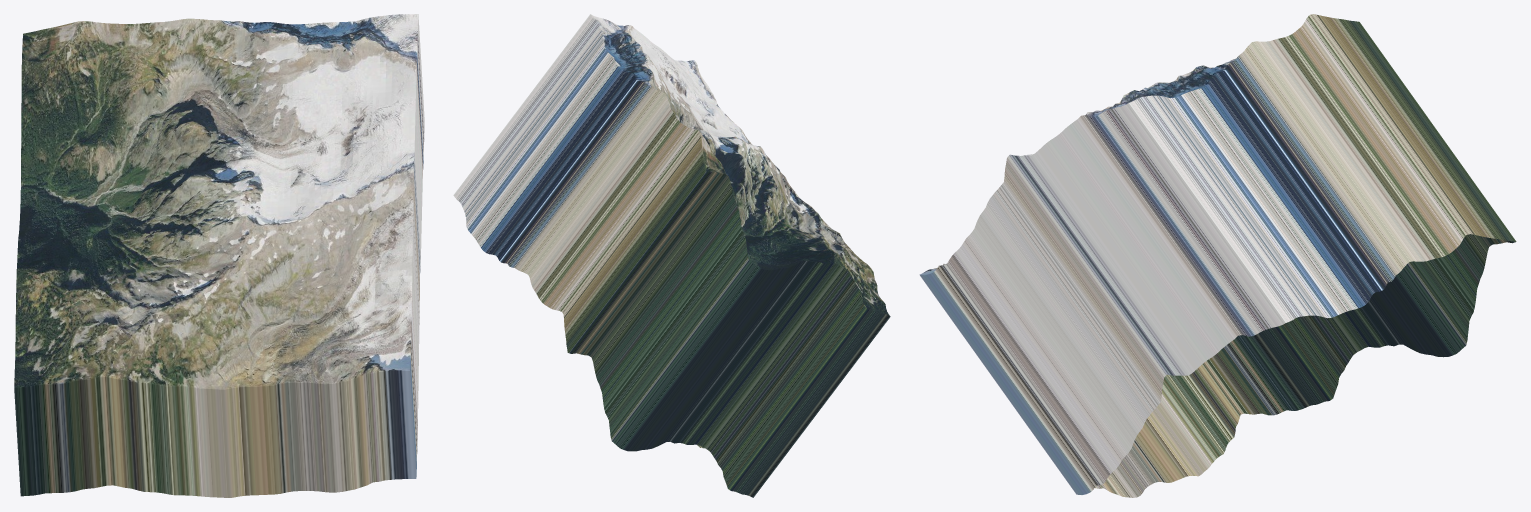
3 views of the same model, side by side, from view 1: azimuth 30°, elevation 25°; view 2: azimuth 150°, elevation 25°; view 3: azimuth 270°, elevation 25° (orthographic). The views are drawn at different scales.
Bounding box in the file's own units: 5771 × 5422 × 6628.
1 material, 1 textured.
